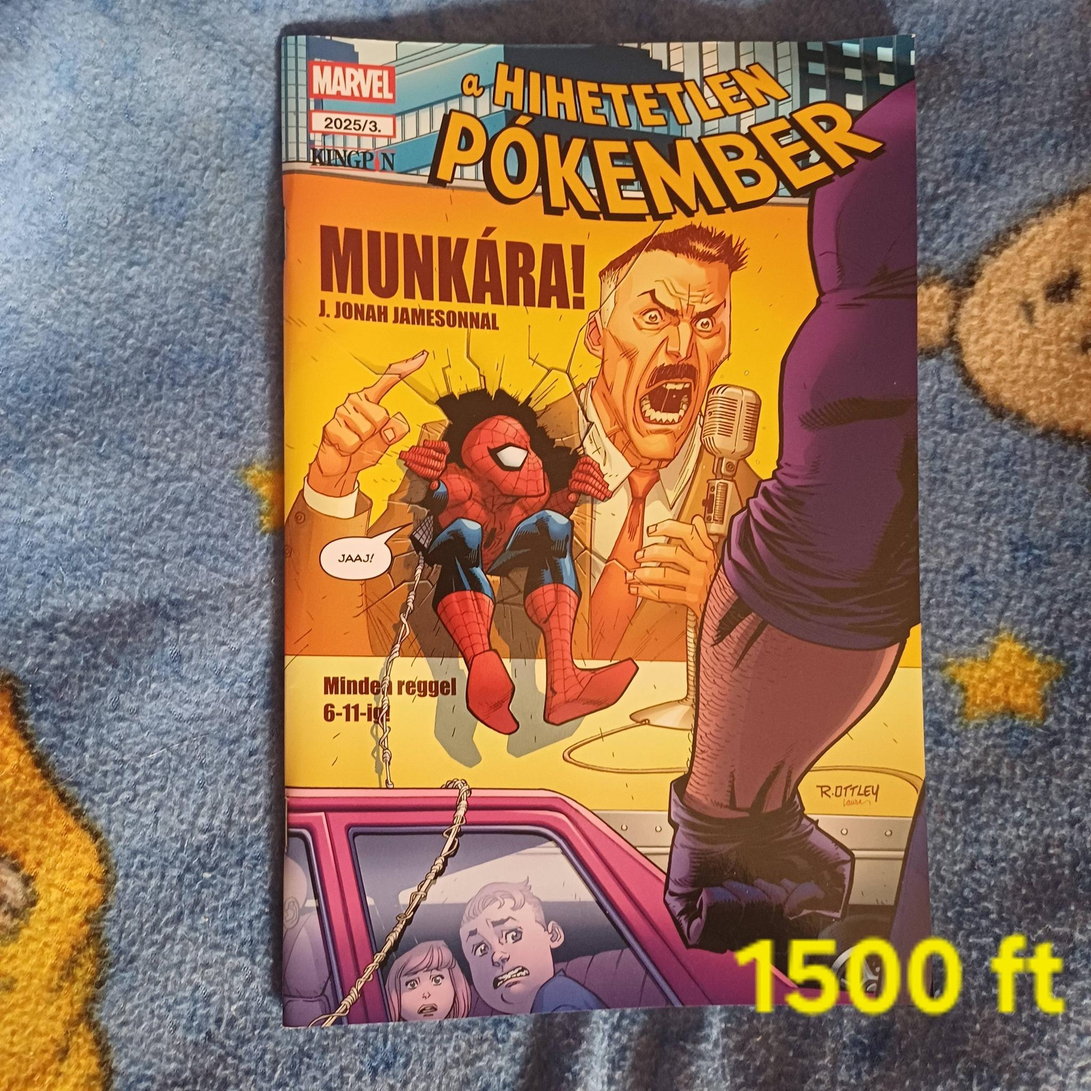comic: (281, 35, 928, 1026)
